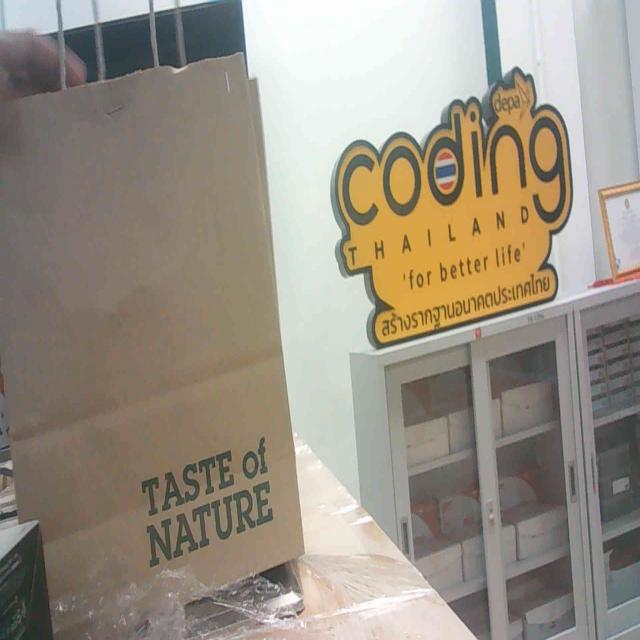bag: (0, 91, 311, 621)
